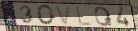3: (18, 5, 34, 25)
4: (116, 6, 130, 28)
L: (75, 6, 93, 27)
O: (36, 4, 56, 27)
Q: (94, 6, 115, 28)
V: (54, 5, 73, 26)
